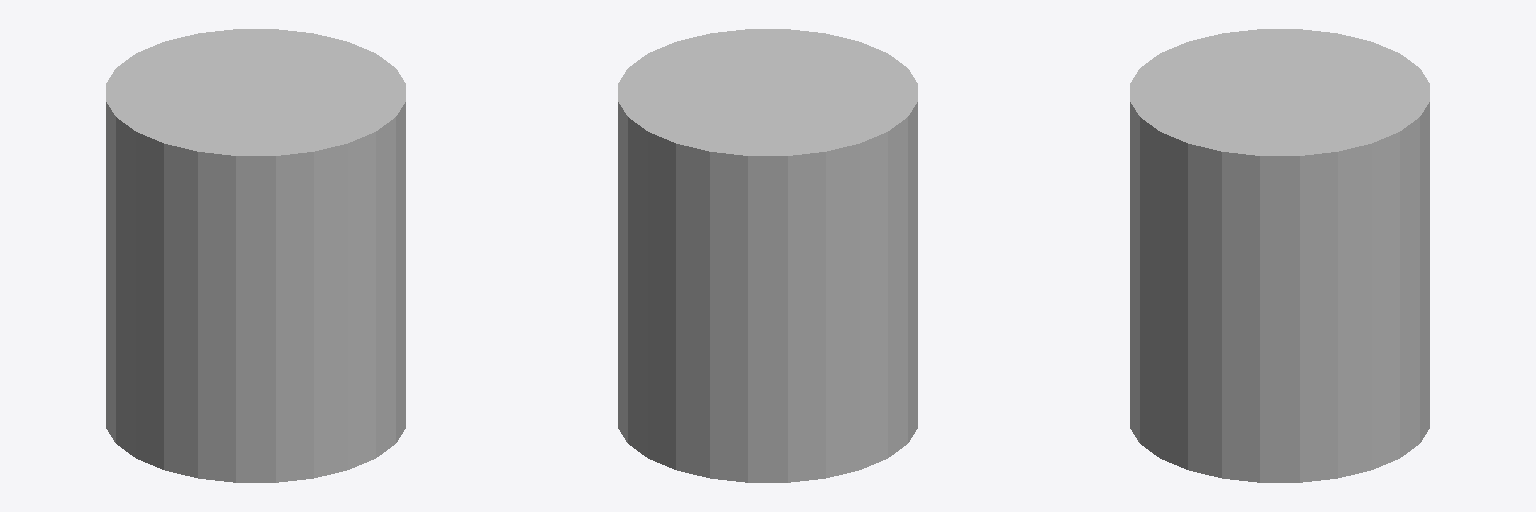
File: yf-3collider.obj
The picture shows the model from 3 angles: view 1: azimuth 30°, elevation 25°; view 2: azimuth 150°, elevation 25°; view 3: azimuth 270°, elevation 25°; orthographic projection.
Visible parts, largest first — view 1: YF-3Collider; view 2: YF-3Collider; view 3: YF-3Collider.
Boxes of the visible parts, <box> form: YF-3Collider: <box>106,29,405,482</box>; YF-3Collider: <box>618,29,917,482</box>; YF-3Collider: <box>1130,29,1429,482</box>.
Bounding box in the file's own units: 1.24 × 1.49 × 1.24.